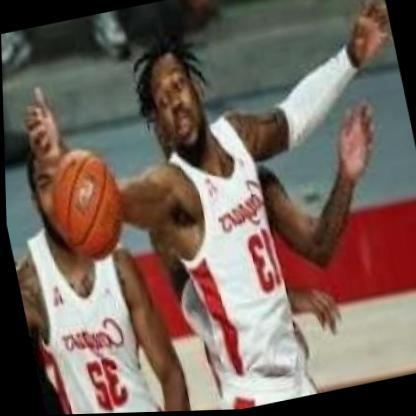basketball: (37, 141, 130, 270)
